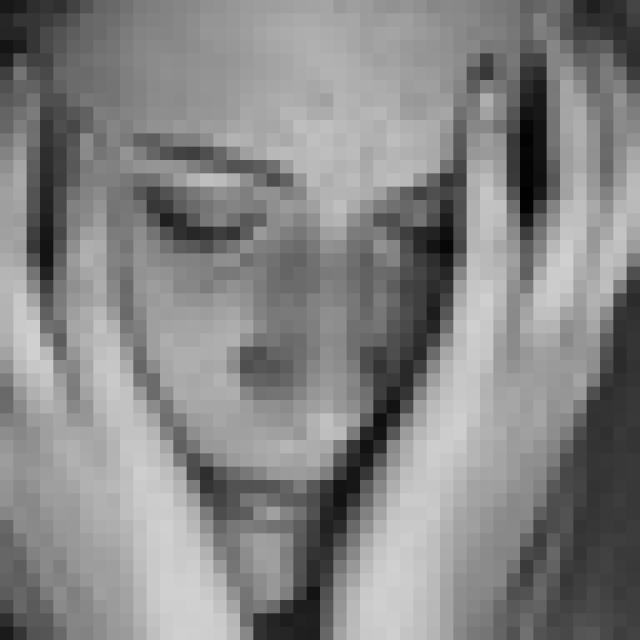sad: (116, 124, 465, 545)
